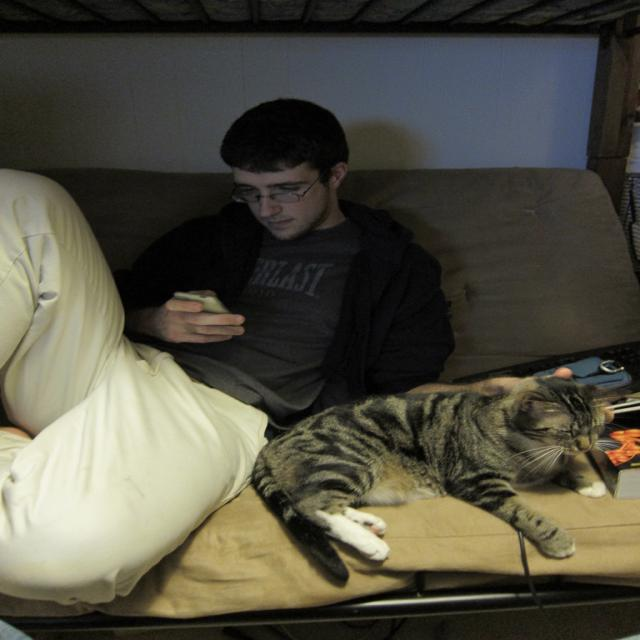Cat: (242, 384, 623, 577)
